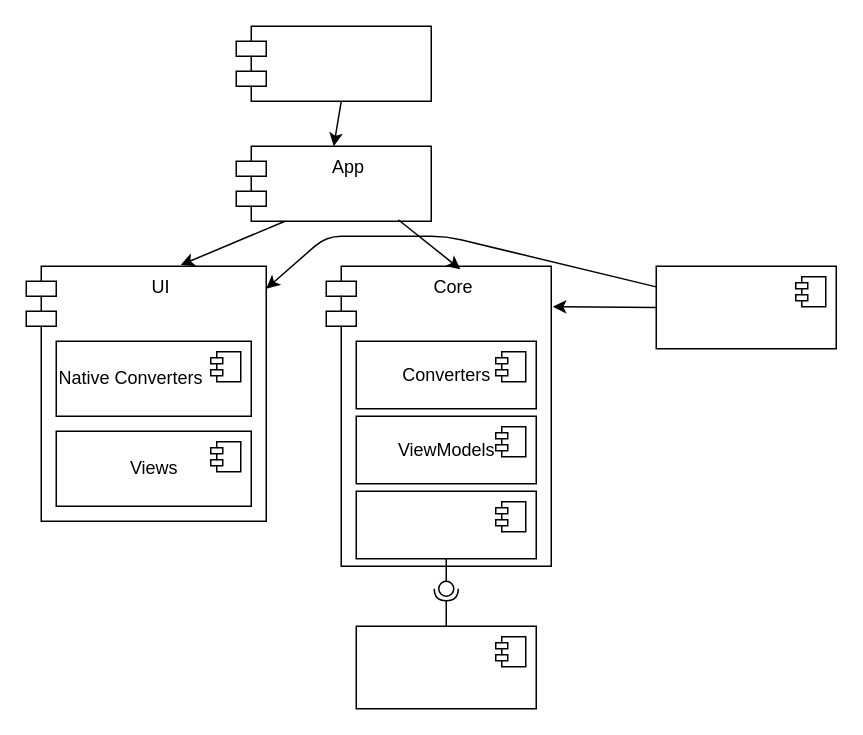
This 863x735 diagram has some shape labels left out. Each missing label, with the centre of its shape:
MvvmCross: the point at 745,307
Native Projects: the point at 333,63
Services: the point at 445,524
Spotify API: the point at 445,667
